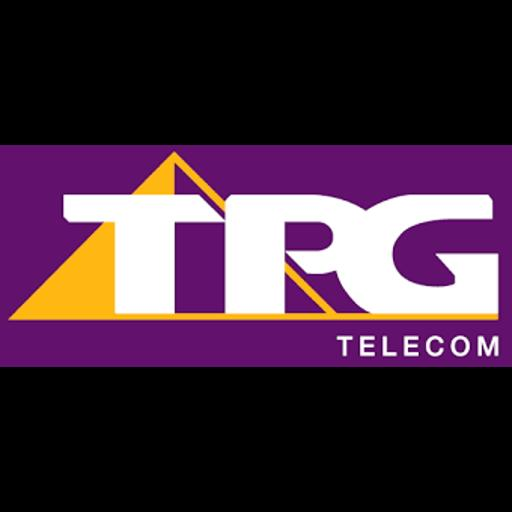TPG Telecom: (0, 145, 512, 367)
